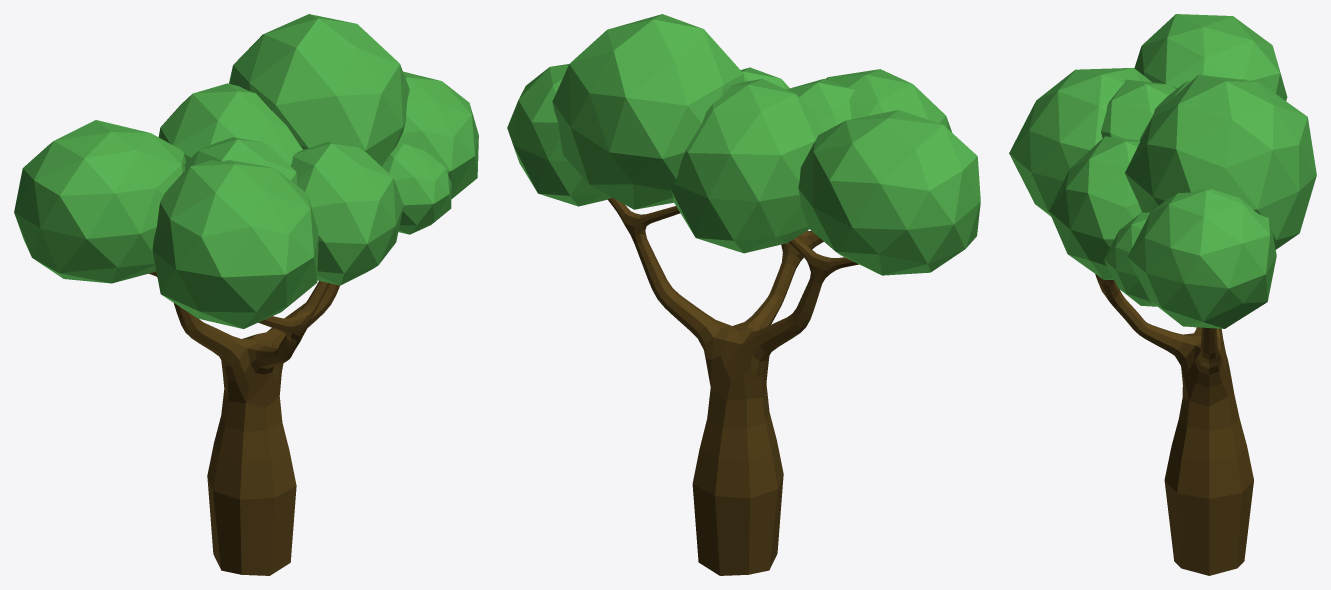
File: arvore2.fbx
3 views of the same model, side by side, from view 1: azimuth 30°, elevation 25°; view 2: azimuth 150°, elevation 25°; view 3: azimuth 270°, elevation 25° (orthographic). The views are drawn at different scales.
Parts seen in each view (by area): view 1: Icosphere.009; view 2: Icosphere.009; view 3: Icosphere.009.
Part boxes in pixels (box(x1,y1,x2,y2)): Icosphere.009: box(14, 14, 478, 575); Icosphere.009: box(507, 14, 980, 575); Icosphere.009: box(1009, 14, 1316, 575).
Bounding box in the file's own units: 199 × 228 × 121.
